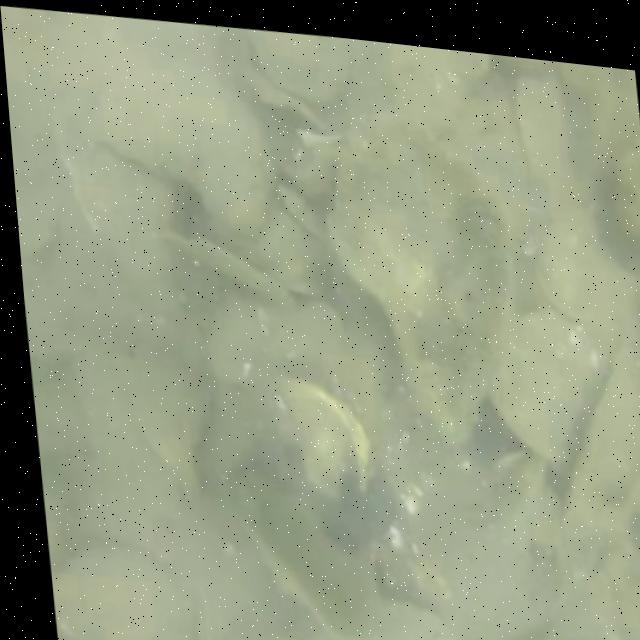Oyster-Indeterminate: (321, 108, 521, 444), (87, 58, 270, 237), (489, 309, 592, 465), (52, 549, 195, 640), (131, 335, 213, 479), (273, 381, 371, 494), (248, 29, 347, 104)
